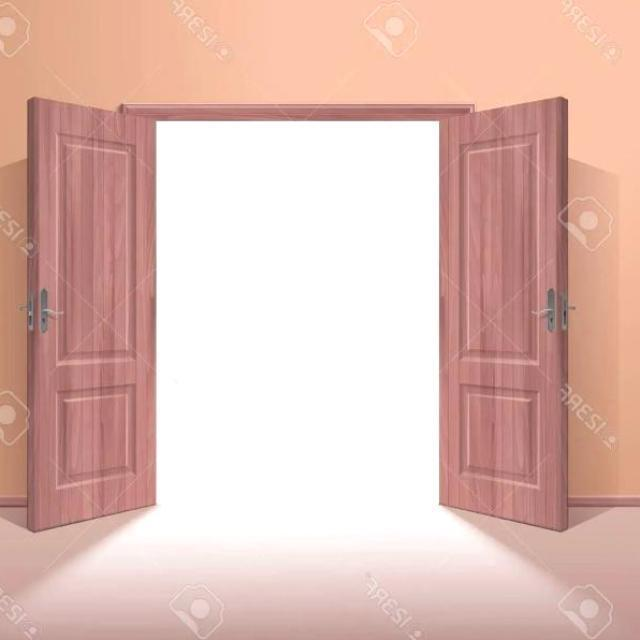door: (438, 95, 569, 531), (25, 95, 156, 531)
